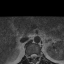CCS_normal: (32, 51, 35, 61)
LFS_normal: (37, 50, 39, 59)
LLS_normal: (35, 50, 37, 60)
RFS_normal: (27, 52, 30, 60)
RLS_normal: (30, 51, 32, 60)
